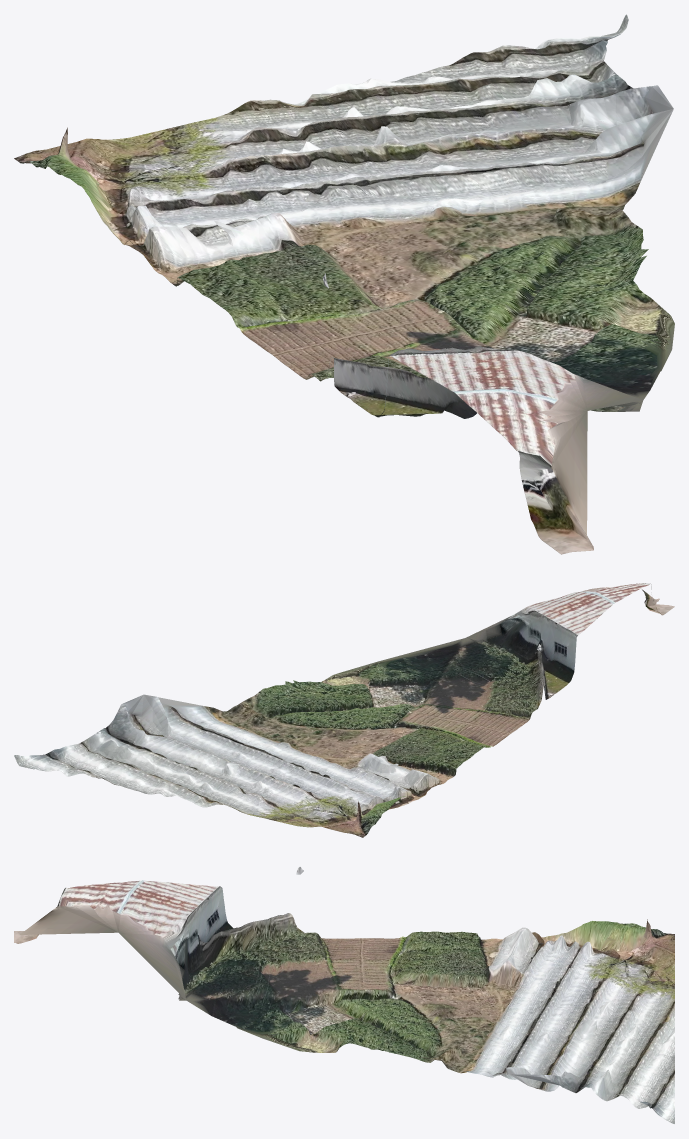
The model's file is BlockYY_L20_83.glb.
The picture shows the model from 3 angles, top to bottom: view 1: azimuth 30°, elevation 25°; view 2: azimuth 150°, elevation 25°; view 3: azimuth 270°, elevation 25°; orthographic projection. The views are drawn at different scales.
Visible parts, largest first — view 1: rtc; view 2: rtc; view 3: rtc.
Boxes of the visible parts, left/top/right/bottom form: rtc: left=14, top=14, right=674, bottom=554; rtc: left=14, top=583, right=674, bottom=837; rtc: left=14, top=867, right=674, bottom=1123.
Bounding box in the file's own units: 55.21 × 12.02 × 85.48.
Materials: 9 (9 with a texture image).
